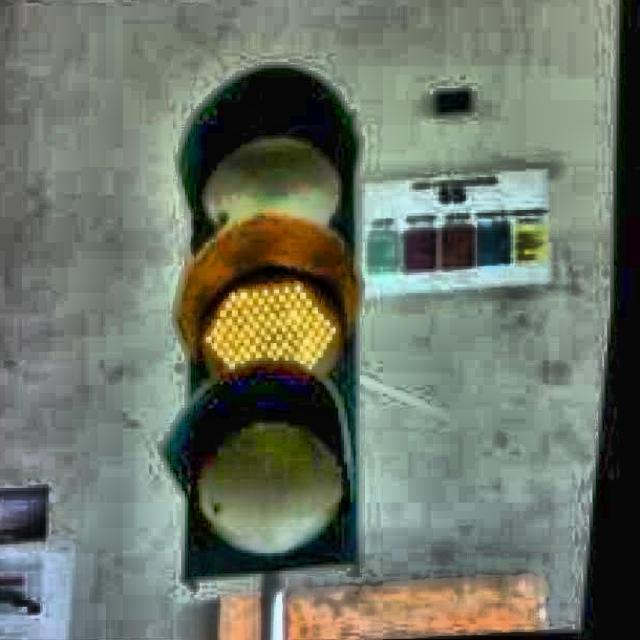yellow: (171, 87, 356, 582)
